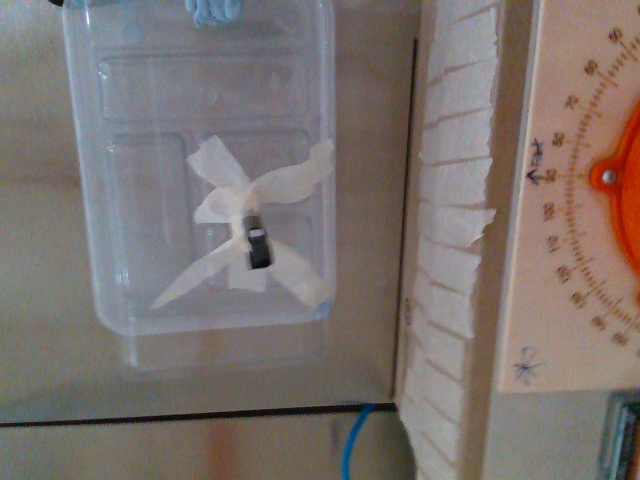test_strip: (247, 229, 273, 269)
